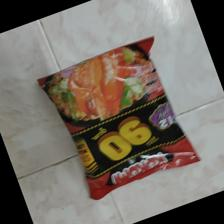Kokomi: (35, 36, 201, 203)
